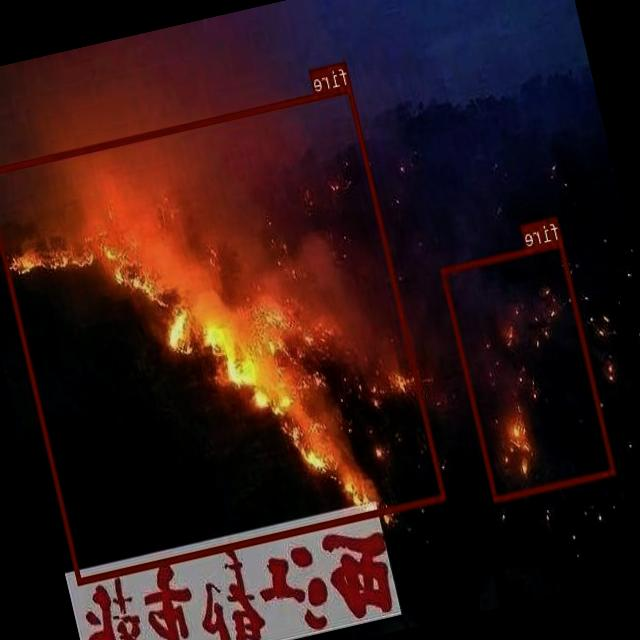fire: (0, 83, 446, 582), (440, 238, 617, 501)
